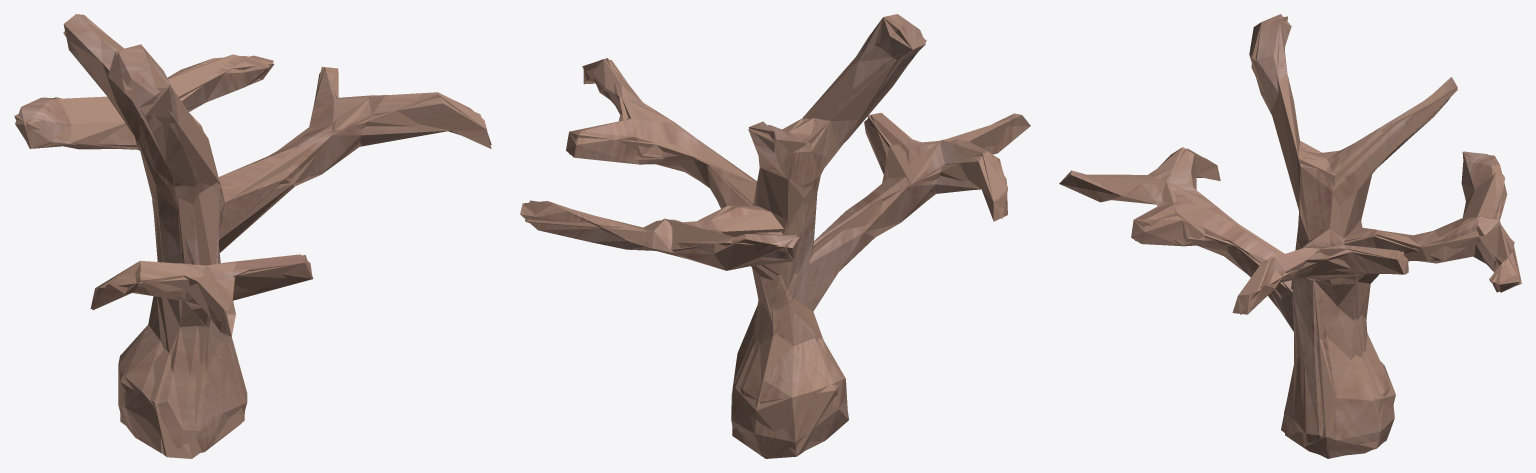
File: TreeBare02.fbx
The picture shows the model from 3 angles, left to right: view 1: azimuth 30°, elevation 25°; view 2: azimuth 150°, elevation 25°; view 3: azimuth 270°, elevation 25°; orthographic projection. The views are drawn at different scales.
Parts seen in each view (by area): view 1: TreeAndLeaves#2_M#2, TreeAndLeaves#2_M#3; view 2: TreeAndLeaves#2_M#2, TreeAndLeaves#2_M#3; view 3: TreeAndLeaves#2_M#2, TreeAndLeaves#2_M#3.
Boxes of the visible parts, x1,y1,x2,y2 form: TreeAndLeaves#2_M#2: (15, 14, 491, 454); TreeAndLeaves#2_M#3: (14, 23, 491, 458); TreeAndLeaves#2_M#2: (520, 14, 1030, 456); TreeAndLeaves#2_M#3: (525, 17, 1009, 458); TreeAndLeaves#2_M#2: (1059, 14, 1520, 457); TreeAndLeaves#2_M#3: (1083, 16, 1521, 458).
Size of the model in its own units: 9.68 by 9.6 by 10.24.
Materials: 1 (1 with a texture image).
